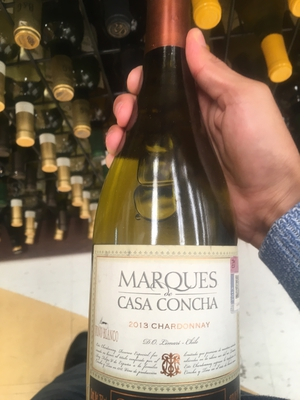marques de casa concha chardonnay: (75, 6, 251, 400)
